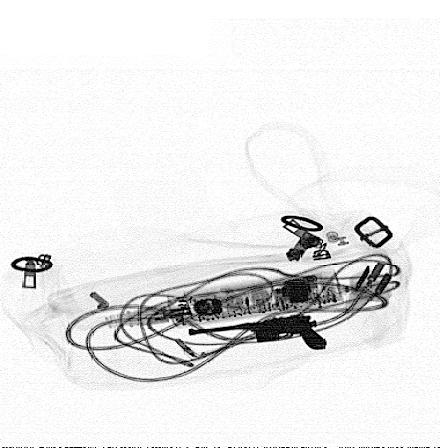Gun: (186, 310, 328, 349)
